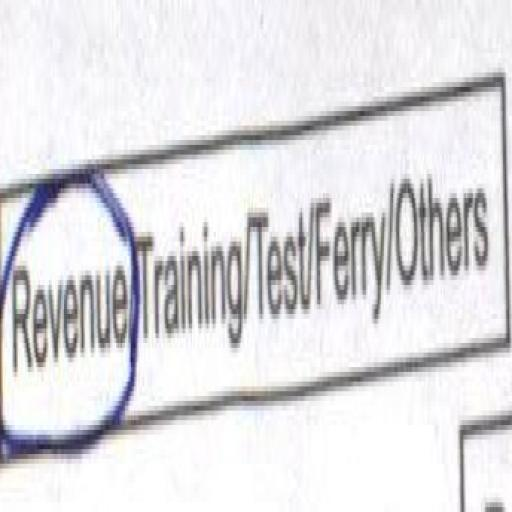check: (0, 126, 138, 506)
